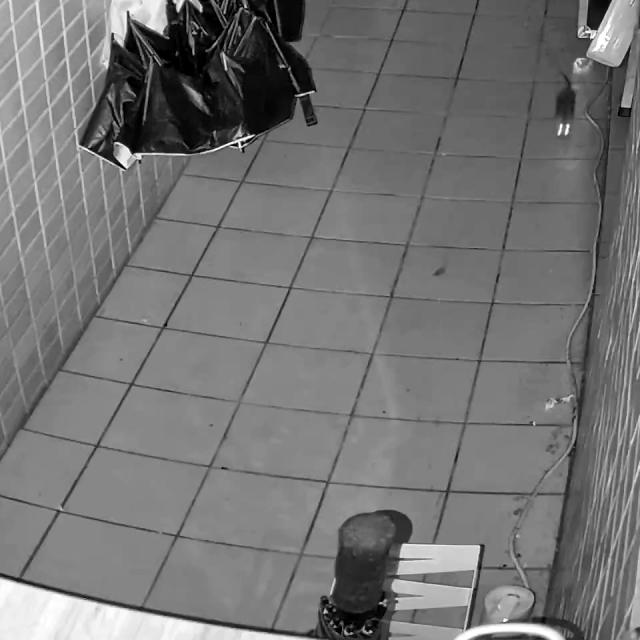rat: (554, 73, 577, 139)
